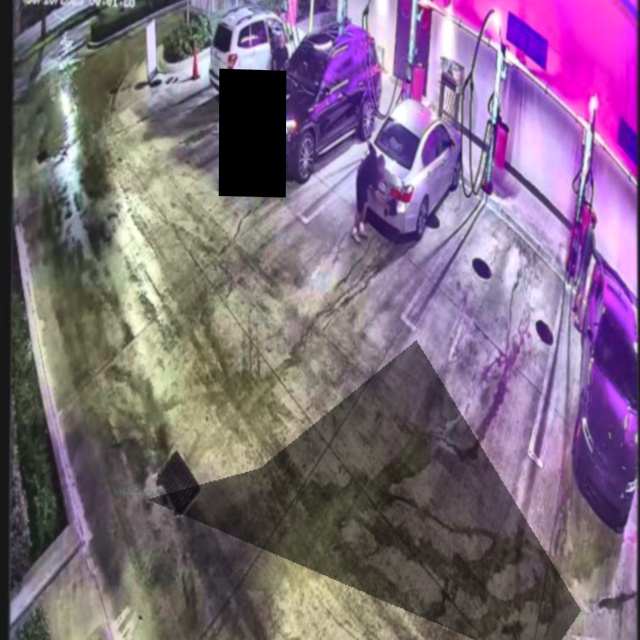Car: (253, 24, 384, 180), (357, 98, 460, 243)
